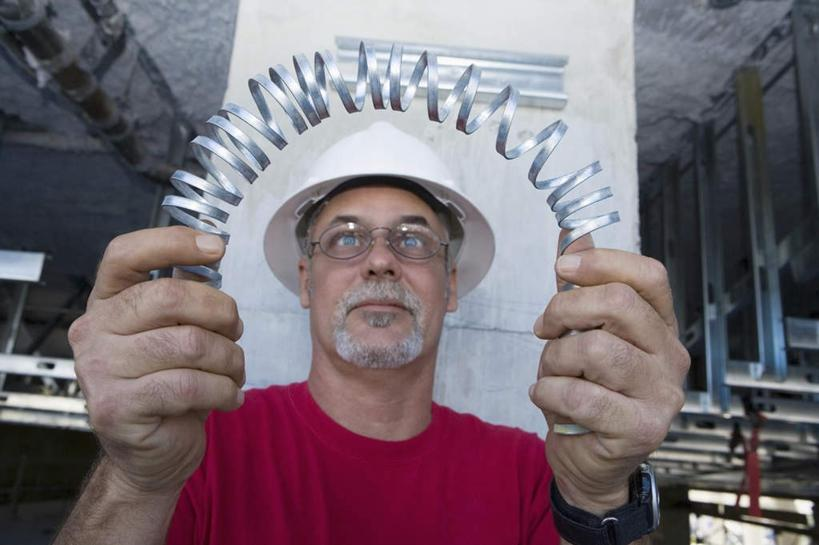helmet: (257, 124, 501, 290)
no_wear: (182, 420, 551, 545)
